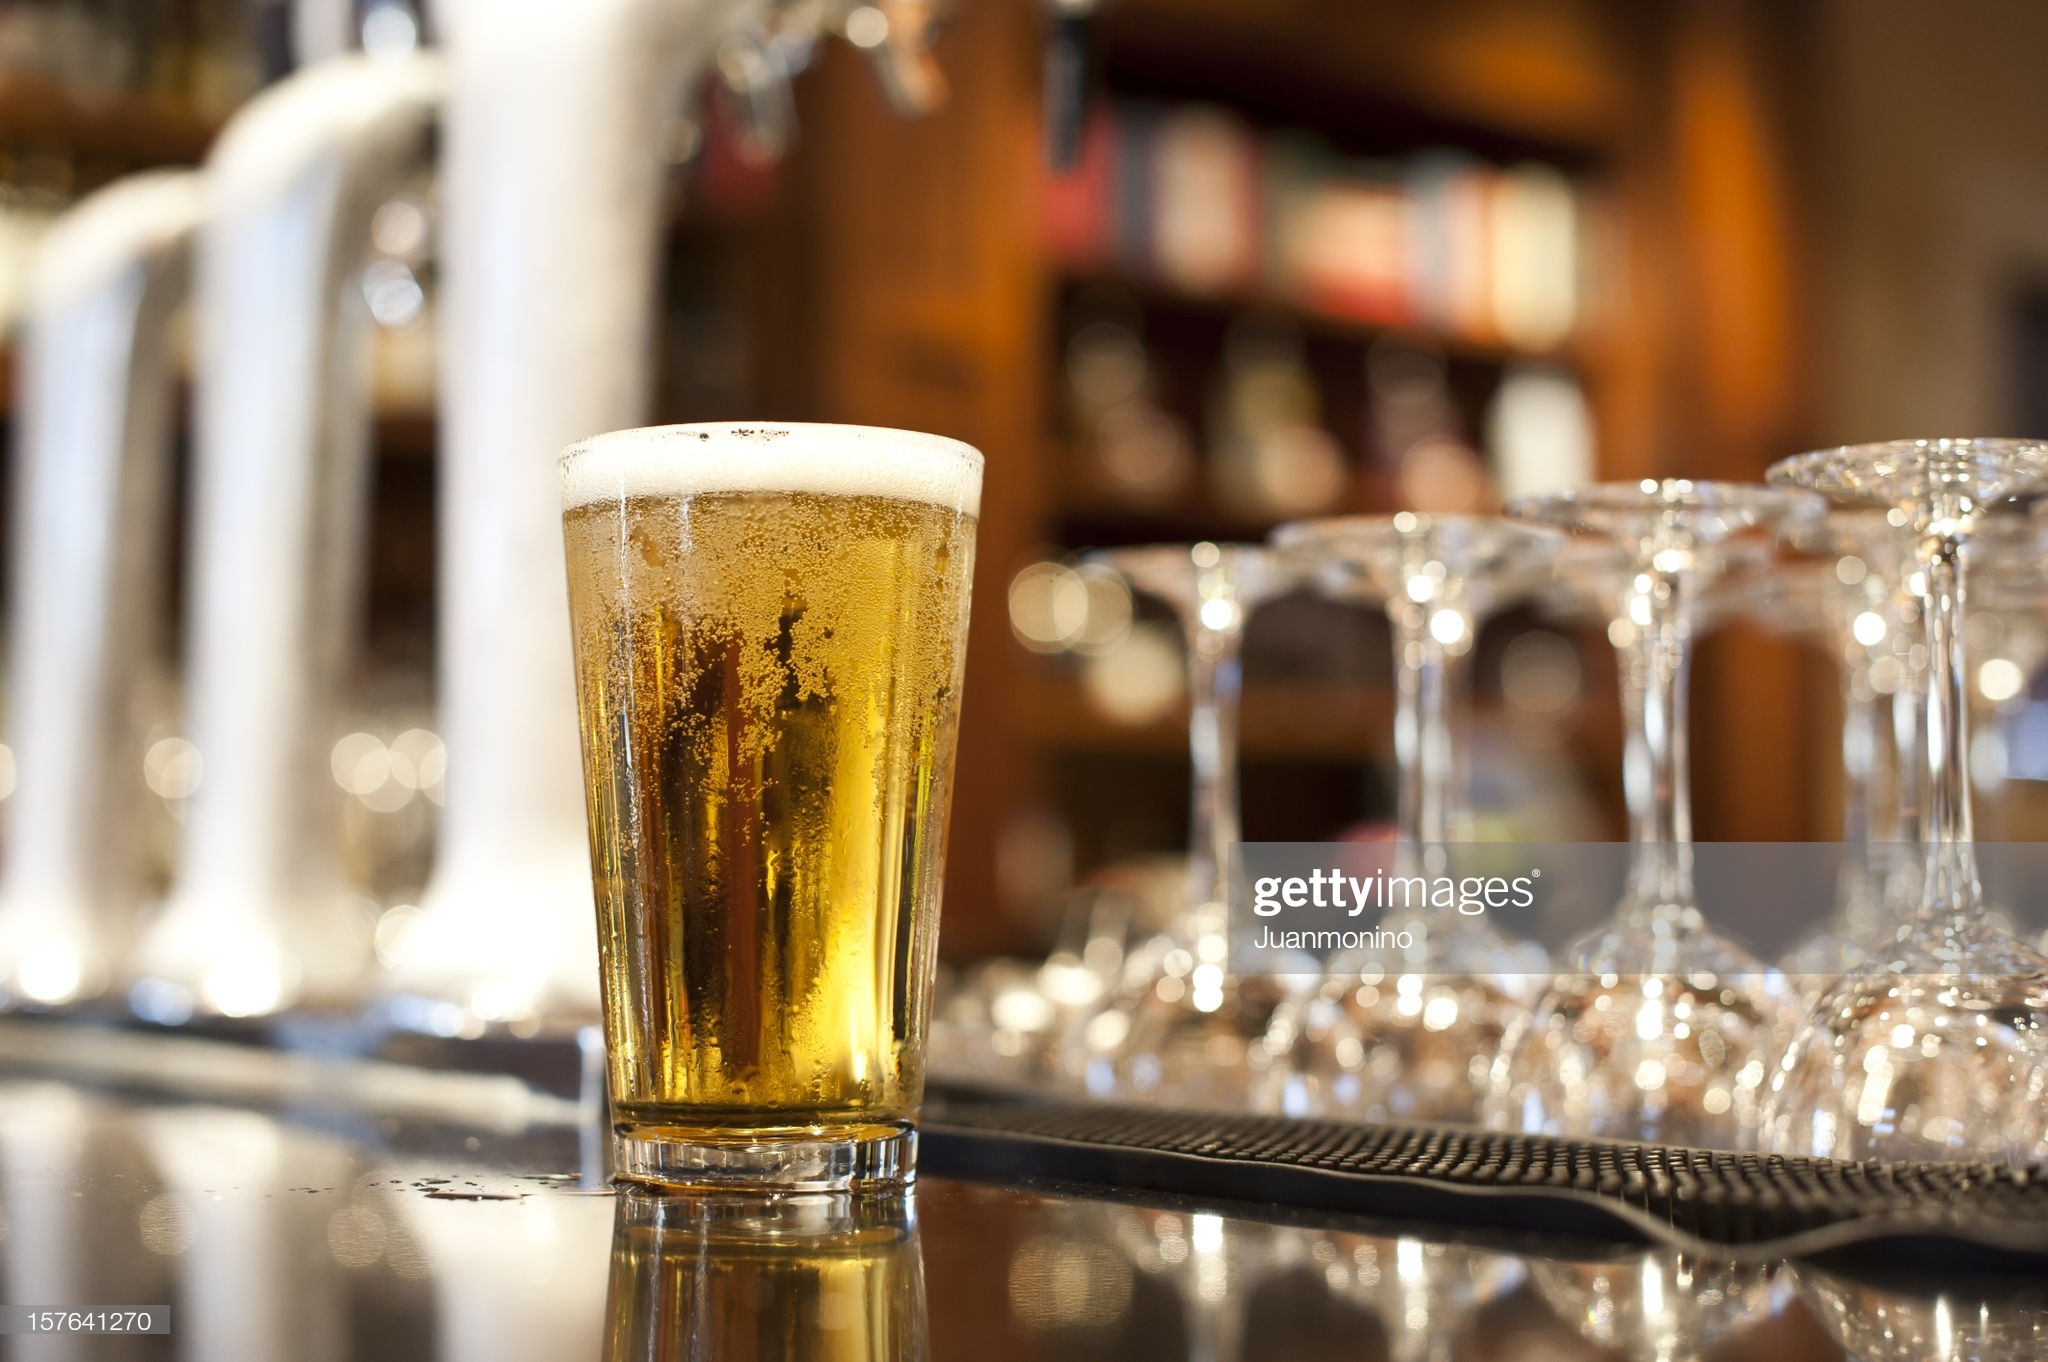glassBeer: (570, 418, 1013, 1202)
